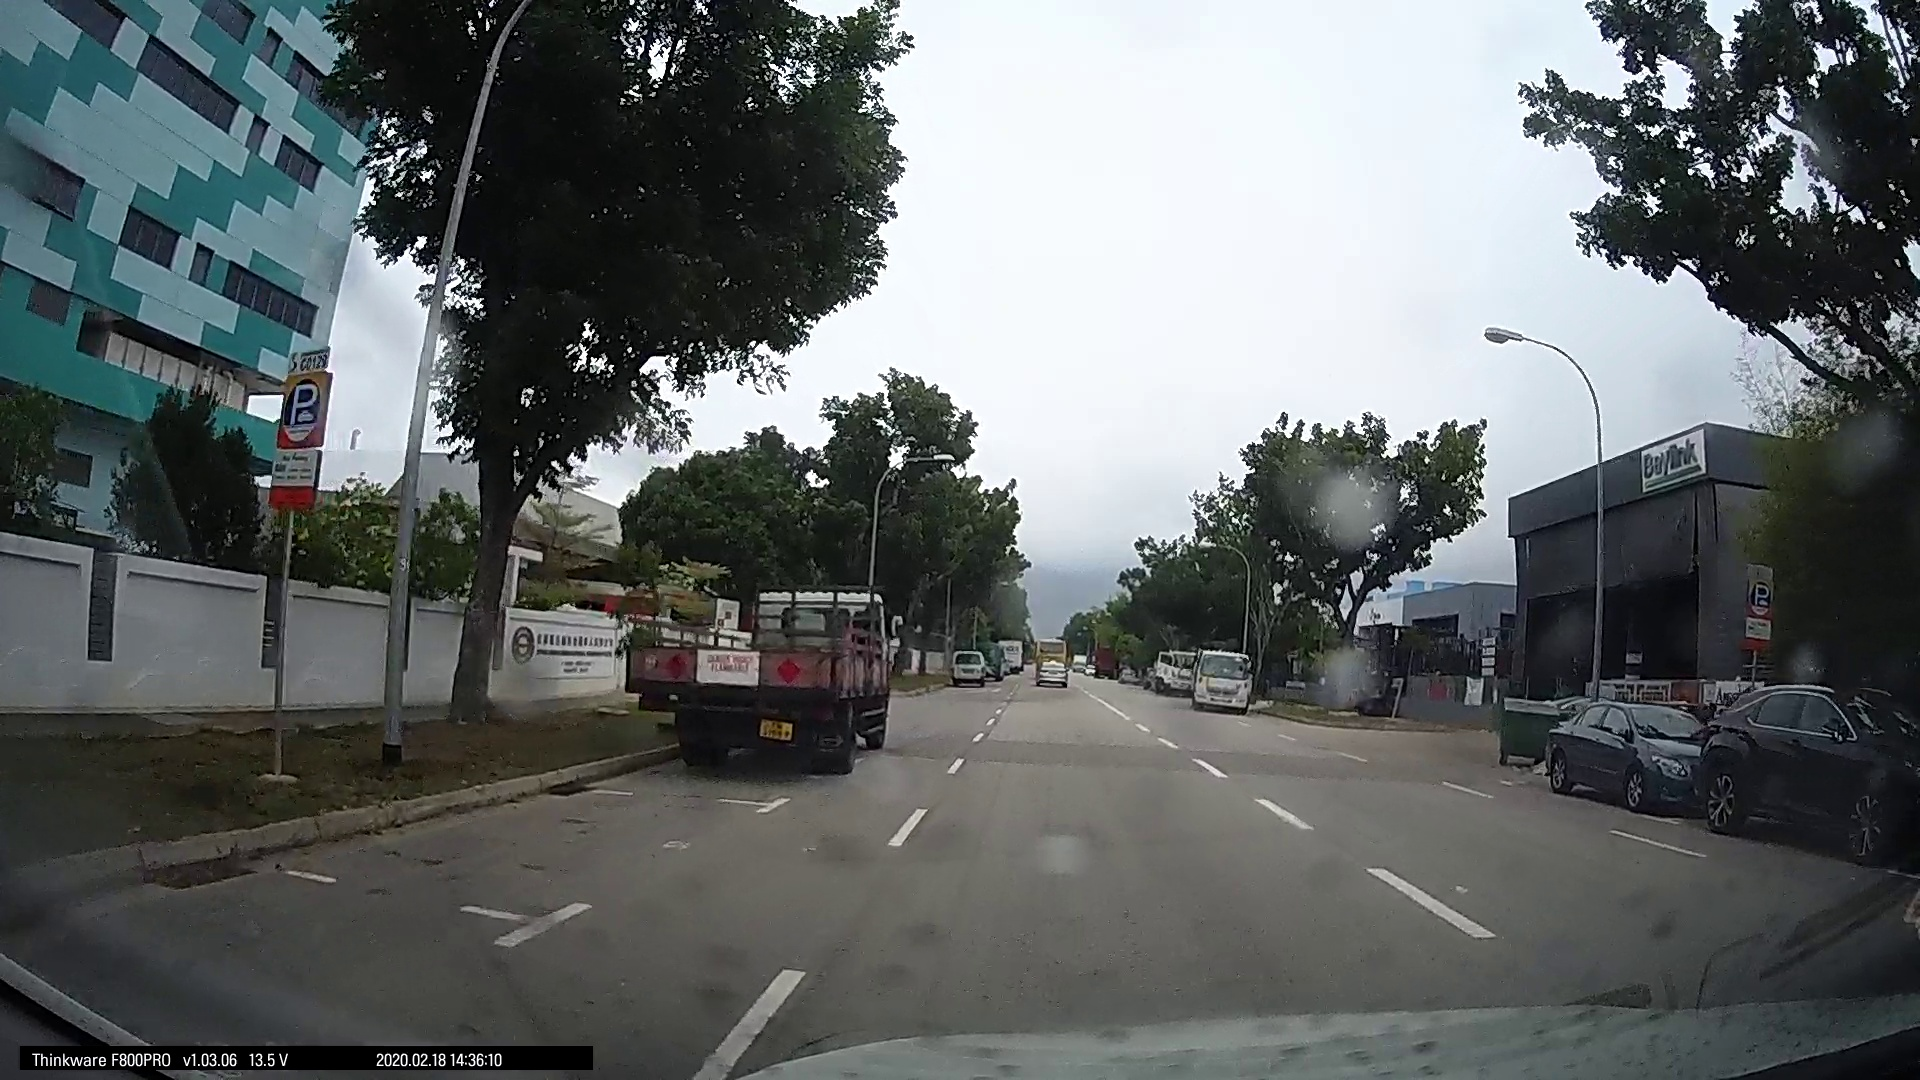Heavy Vehicle: (637, 574, 901, 769)
Light Vehicle: (1691, 676, 1907, 849), (1542, 694, 1713, 814), (1178, 645, 1253, 712), (945, 644, 992, 684), (1029, 645, 1068, 684)
